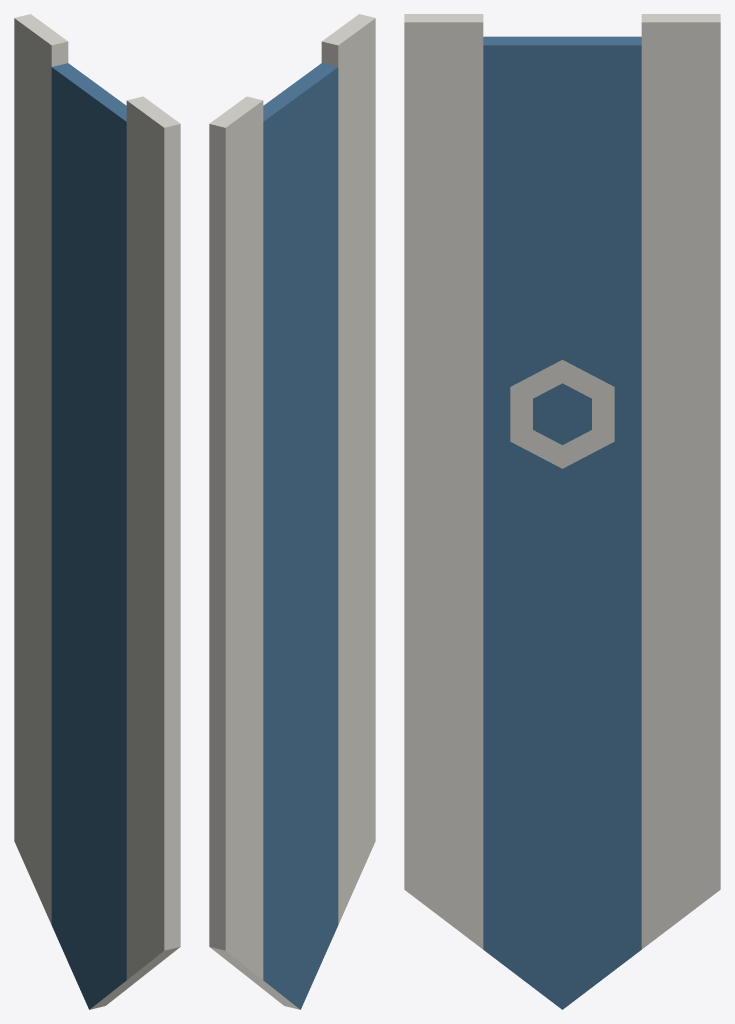
The model's file is flagBannerLong.fbx.
3 renders of one model, left to right at view 1: azimuth 30°, elevation 25°; view 2: azimuth 150°, elevation 25°; view 3: azimuth 270°, elevation 25°, orthographic. The views are drawn at different scales.
Parts seen in each view (by area): view 1: flagBannerLong; view 2: flagBannerLong; view 3: flagBannerLong.
Part boxes in pixels (x1=…): flagBannerLong: x1=14, y1=14, x2=180, y2=1009; flagBannerLong: x1=209, y1=14, x2=375, y2=1009; flagBannerLong: x1=404, y1=14, x2=720, y2=1009.
Bounding box in the file's own units: 0.4 × 21.7 × 6.3.
